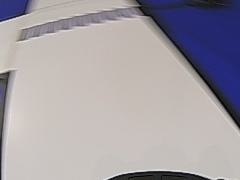CrossWalk: (10, 3, 150, 43)
